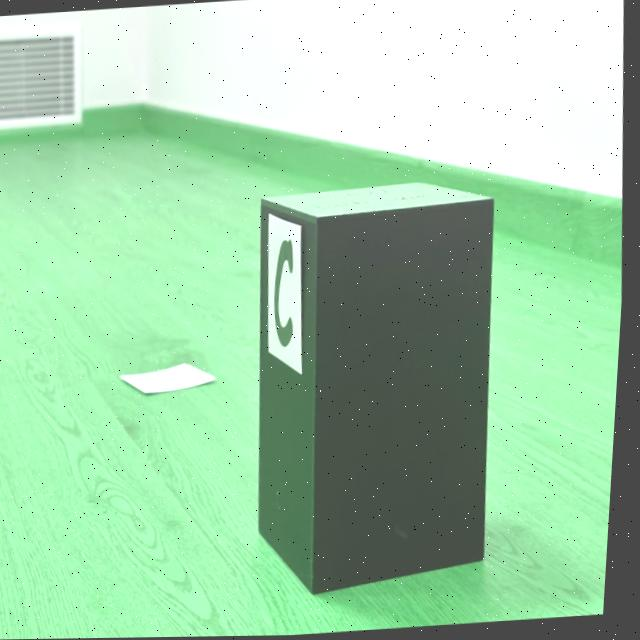C: (277, 241, 298, 347)
